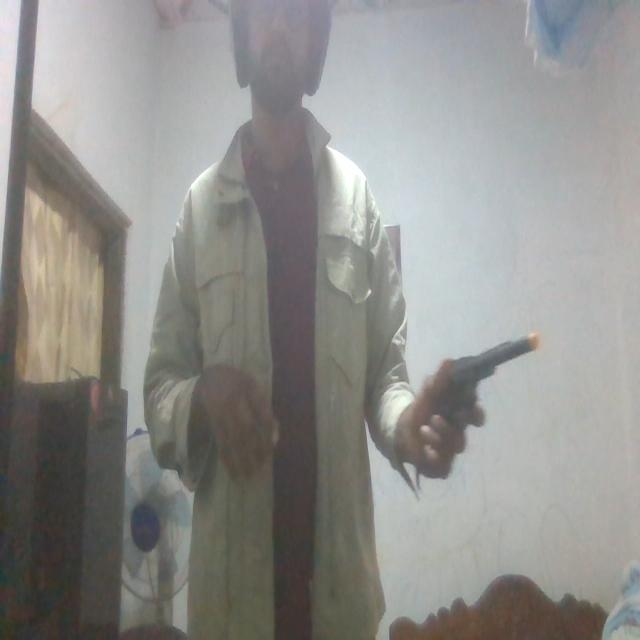Gun_Holder: (421, 332, 543, 468)
Jacket_Wearer: (142, 117, 430, 640)
Person: (145, 0, 463, 640)
